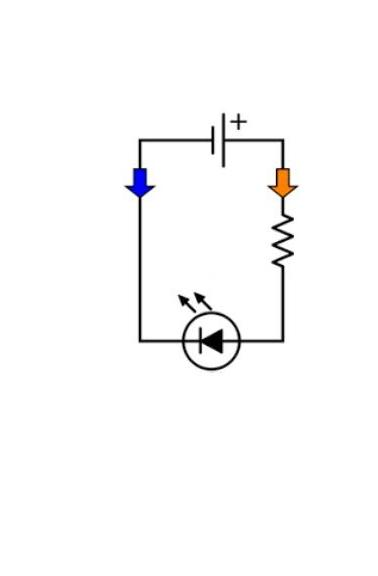resistor: (258, 198, 306, 277)
